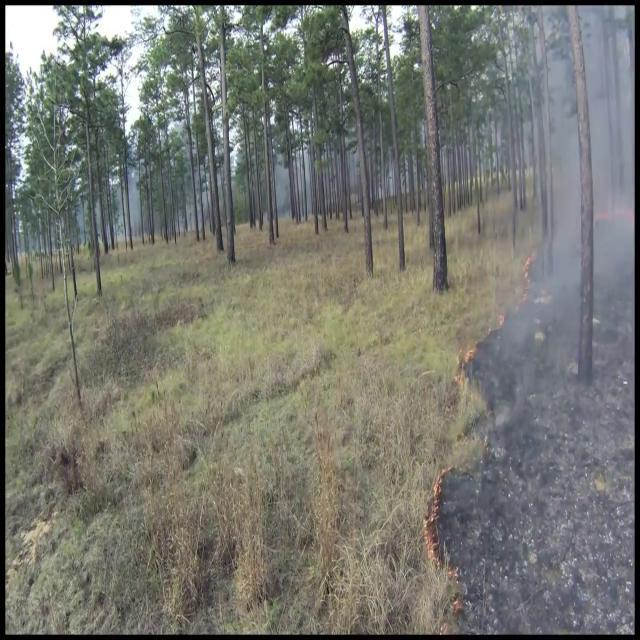Smoke: (507, 14, 635, 500)
